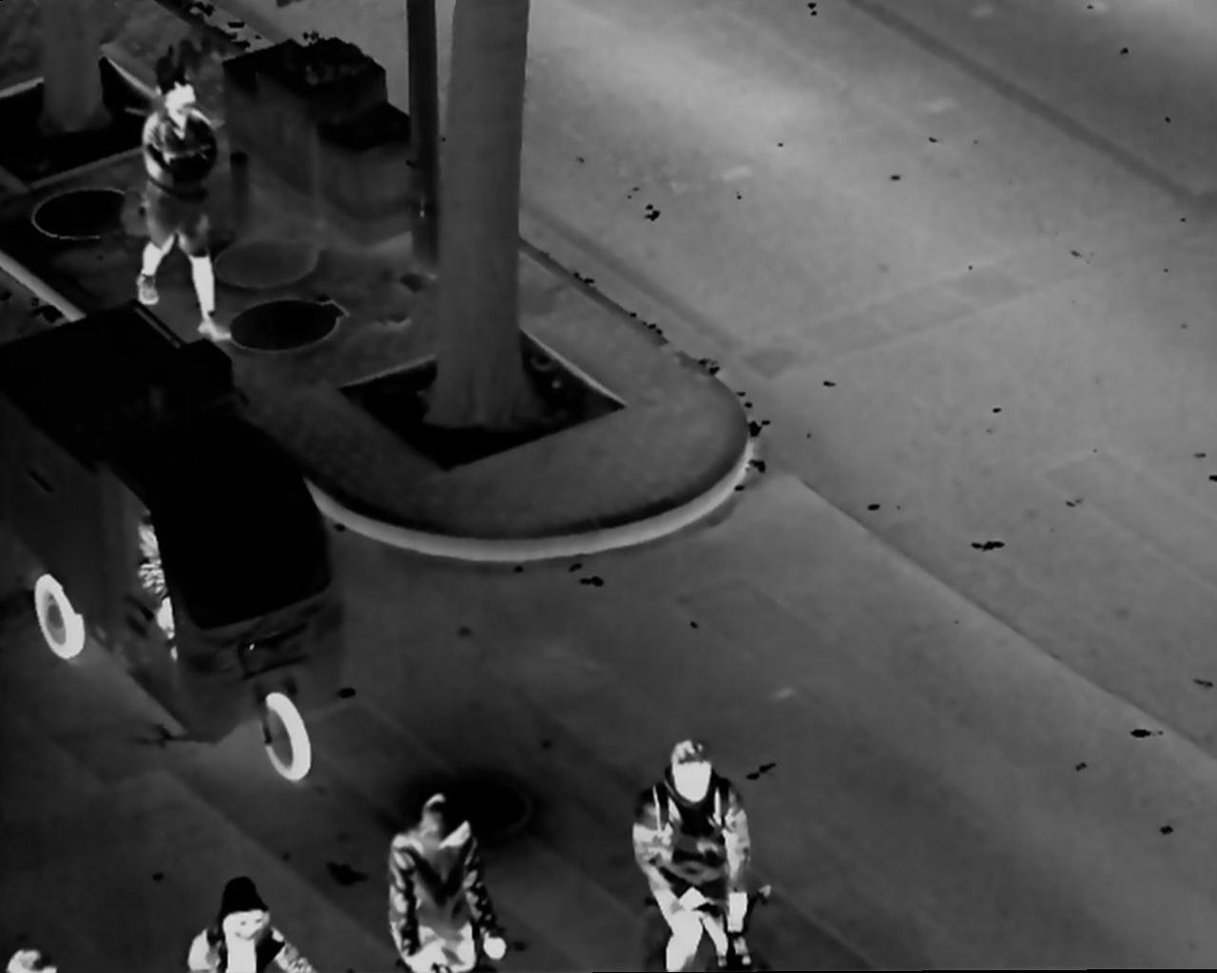person: (626, 733, 761, 972), (131, 68, 231, 345), (380, 788, 519, 973), (181, 874, 320, 973)
